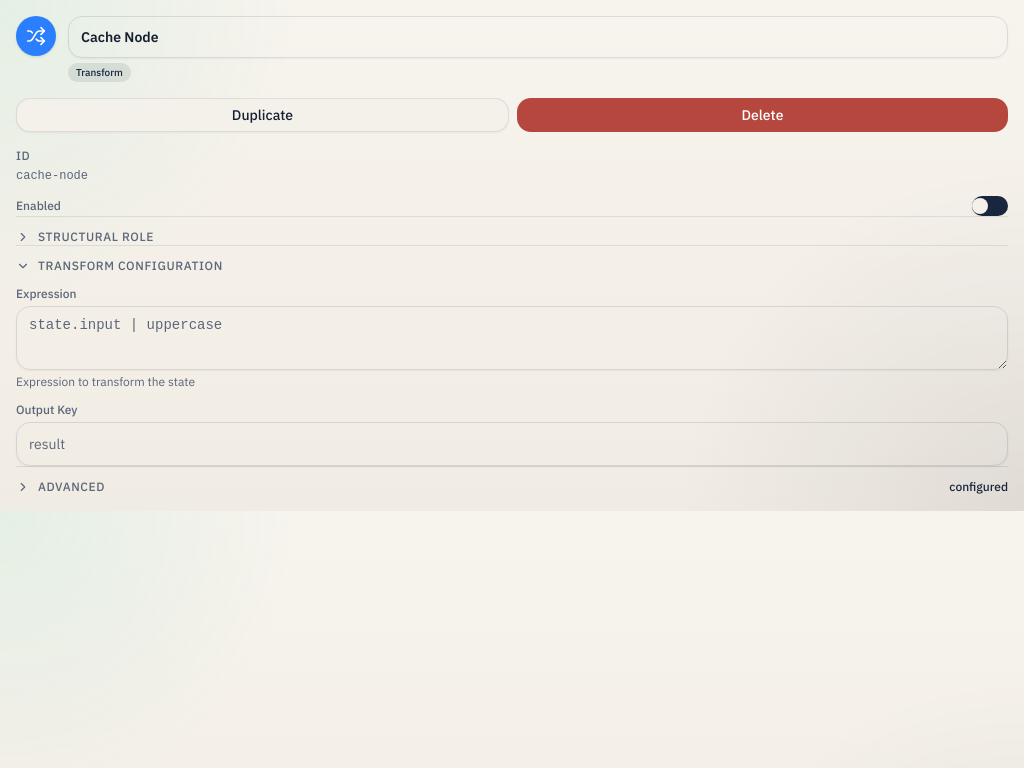
Test case: NodeInspector › Node Cache Configuration › should show TTL input when cache is enabled
Click the button "Advanced configured": (72, 486) [16, 479, 1008, 495]
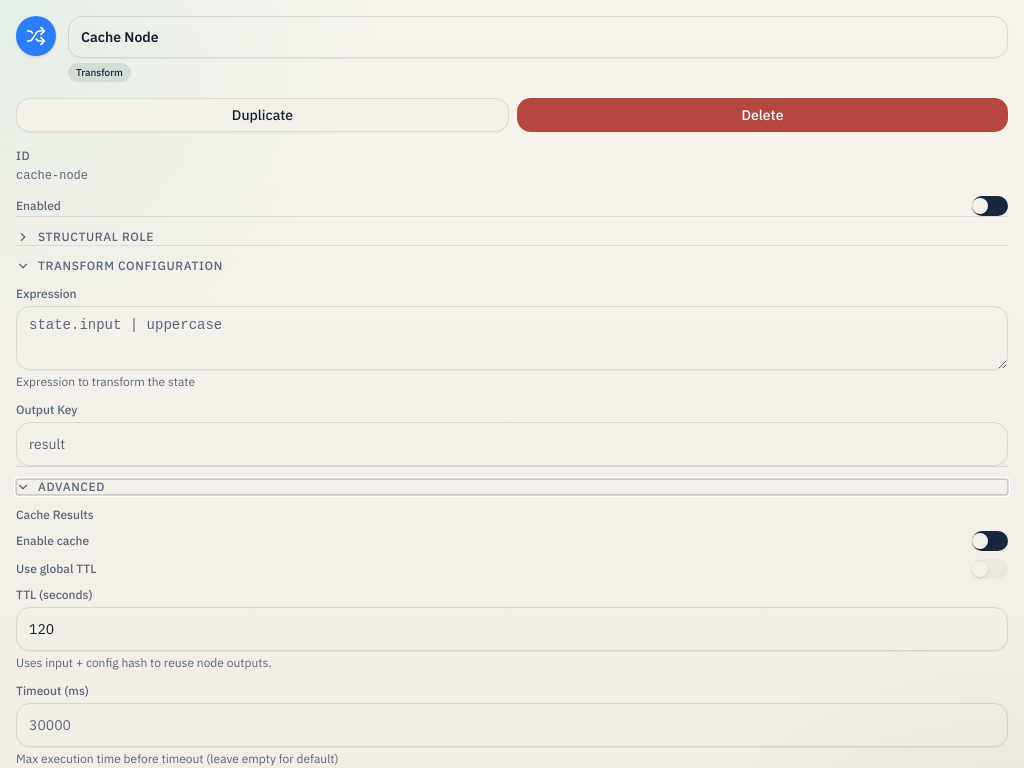
Check: the number field showing "120" is shown, box [16, 607, 1008, 651]
